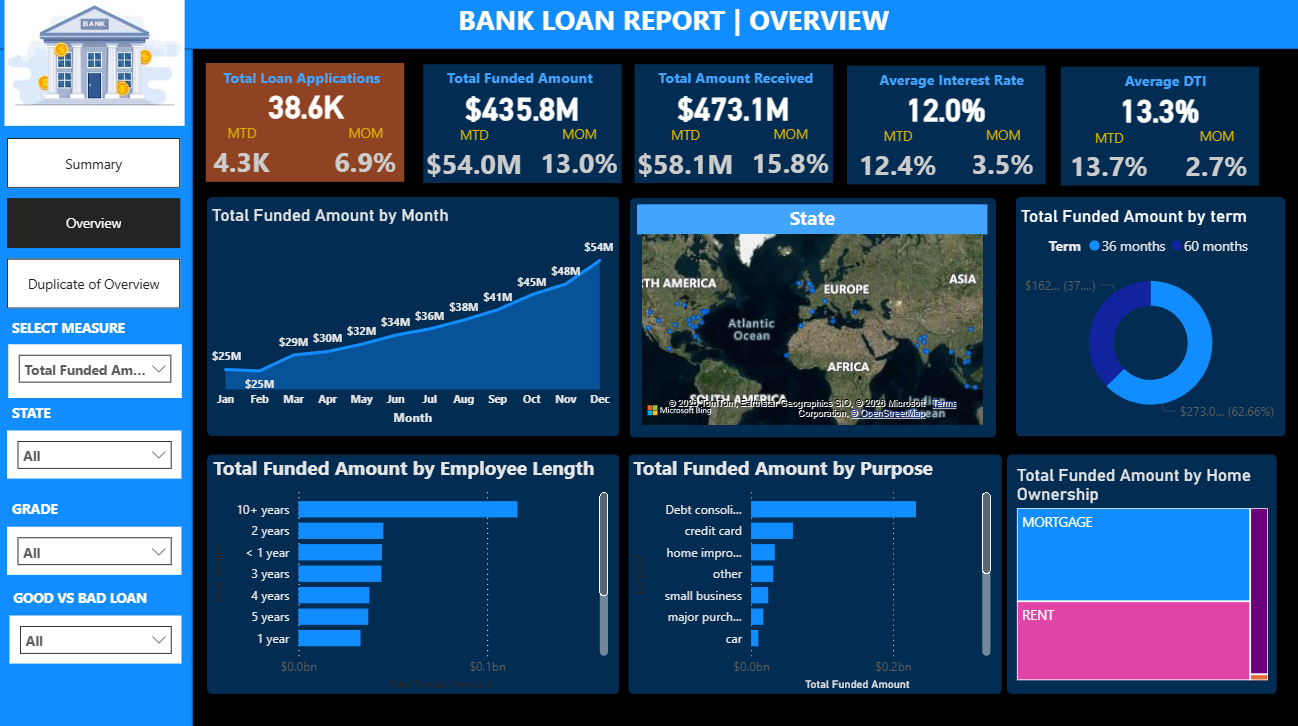

This screenshot's page, from the dashboard's own definition file:
{"tool":"powerbi","page":{"name":"Overview","canvas":[1280,720],"ordinal":1},"visuals":[{"type":"shape","box":[0,0,1280.3,55],"z":0},{"type":"shape","box":[205.8,68.6,194.9,116.6],"z":0,"group":"g1"},{"type":"shape","box":[417.9,70.2,194.9,116.6],"z":0,"group":"g2"},{"type":"shape","box":[625.9,70.3,194.9,116.6],"z":0,"group":"g3"},{"type":"shape","box":[833.9,71.5,194.9,116.6],"z":0,"group":"g4"},{"type":"shape","box":[1044.8,72.7,194.9,116.6],"z":0,"group":"g5"},{"type":"shape","box":[0,54.9,192,665.5],"z":1000},{"type":"card","fields":{"Values":["bank_loan_data.Total Loan Applications"]},"box":[207.5,80.7,191.8,59.1],"z":1000,"group":"g1"},{"type":"card","fields":{"Values":["bank_loan_data.Total Funded Amount"]},"box":[419.1,82.2,191.8,59.1],"z":1000,"group":"g2"},{"type":"card","fields":{"Values":["bank_loan_data.Total Amount Recieved"]},"box":[627.1,82.3,191.8,59.1],"z":1000,"group":"g3"},{"type":"card","fields":{"Values":["bank_loan_data.Avg Interest Rate"]},"box":[835.1,83.5,191.8,59.1],"z":1000,"group":"g4"},{"type":"card","fields":{"Values":["bank_loan_data.Average DTI"]},"box":[1046,84.7,191.8,59.1],"z":1000,"group":"g5"},{"type":"textbox","box":[218.2,68.6,168.8,28.8],"z":2000,"group":"g1"},{"type":"textbox","box":[436.1,68.7,168.9,29],"z":2000,"group":"g2"},{"type":"textbox","box":[644.1,68.8,168.9,29],"z":2000,"group":"g3"},{"type":"textbox","box":[852.1,70,168.9,29],"z":2000,"group":"g4"},{"type":"textbox","box":[1063,71.2,168.9,29],"z":2000,"group":"g5"},{"type":"shape","box":[206.3,200.3,405,235],"z":2000},{"type":"textbox","box":[447.3,2.7,447.3,49.4],"z":3000},{"type":"card","title":"MTD","fields":{"Values":["bank_loan_data.MTD Loan Applications"]},"box":[191.8,127.7,97.7,60.3],"z":3000,"group":"g1"},{"type":"card","title":"MTD","fields":{"Values":["bank_loan_data.MTD Funded Amount"]},"box":[415.5,130.5,105,59.1],"z":3000,"group":"g2"},{"type":"card","title":"MTD","fields":{"Values":["bank_loan_data.MTD Total Amount Recieved"]},"box":[623.5,130.6,105,59.1],"z":3000,"group":"g3"},{"type":"card","title":"MTD","fields":{"Values":["bank_loan_data.MTD Avg Interest Rate"]},"box":[831.5,131.8,105,59.1],"z":3000,"group":"g4"},{"type":"card","title":"MTD","fields":{"Values":["bank_loan_data.MTD Average DTI"]},"box":[1039.5,133,105,59.1],"z":3000,"group":"g5"},{"type":"group","id":"g1","title":"Group 1","box":[191.8,68.6,219.6,119.4],"z":4000},{"type":"card","title":"MOM","fields":{"Values":["bank_loan_data.MOM Loan Applications"]},"box":[313.7,127.7,97.7,60.3],"z":4000,"group":"g1"},{"type":"card","title":"MOM","fields":{"Values":["bank_loan_data.MOM Total Funded Amount"]},"box":[521.7,129.3,97.7,60.3],"z":4000,"group":"g2"},{"type":"card","title":"MOM","fields":{"Values":["bank_loan_data.MOM Total Amount Recieved"]},"box":[729.7,129.4,97.7,60.3],"z":4000,"group":"g3"},{"type":"card","title":"MOM","fields":{"Values":["bank_loan_data.MOM Avg Interest Rate"]},"box":[937.7,130.6,97.7,60.3],"z":4000,"group":"g4"},{"type":"card","title":"MOM","fields":{"Values":["bank_loan_data.MOM Average DTI"]},"box":[1148.6,131.8,97.7,60.3],"z":4000,"group":"g5"},{"type":"group","id":"g2","title":"Group 1","box":[415.5,68.7,203.9,120.9],"z":5000},{"type":"group","id":"g3","title":"Group 1","box":[623.5,68.8,203.9,120.6],"z":6000},{"type":"group","id":"g4","title":"Group 1","box":[831.5,70,203.9,120.6],"z":7000},{"type":"group","id":"g5","title":"Group 1","box":[1039.5,71.2,206.8,120.9],"z":8000},{"type":"slicer","fields":{"Values":["bank_loan_data.address_state"]},"box":[9.7,429.5,171.3,47.1],"z":9000},{"type":"textbox","box":[9.7,398.1,138.7,31.4],"z":10000},{"type":"slicer","fields":{"Values":["bank_loan_data.grade"]},"box":[9.7,523.6,171.3,47.1],"z":11000},{"type":"textbox","box":[9.7,492.2,138.7,31.4],"z":12000},{"type":"textbox","box":[11,579.1,170.6,31.9],"z":13000},{"type":"textbox","box":[9.7,313.7,138.7,31.4],"z":14000},{"type":"slicer","fields":{"Values":["bank_loan_data.Good vs Bad Loan"]},"box":[12.1,610.5,168.9,47.1],"z":16000},{"type":"areaChart","fields":{"Y":["bank_loan_data.Total Funded Amount"],"Category":["Date Table.Month"]},"box":[206.3,207.5,404.2,222],"z":17000},{"type":"slicer","fields":{"Values":["Select Measure.Select Measure"]},"box":[10.9,345,170.1,53.1],"z":18000},{"type":"shape","box":[621.3,201.5,360,235.3],"z":19000},{"type":"map","title":"State","fields":{"Category":["bank_loan_data.address_state"]},"box":[628.6,207.5,343.8,222],"z":20000},{"type":"shape","box":[1000,200,265,235.6],"z":21000},{"type":"donutChart","fields":{"Y":["bank_loan_data.Total Funded Amount"],"Category":["bank_loan_data.term"]},"box":[1000,208.6,265,220.9],"z":22000},{"type":"shape","box":[206.1,452.8,404.9,235.6],"z":23000},{"type":"barChart","title":"Total Funded Amount by Employee Length","fields":{"Y":["bank_loan_data.Total Funded Amount"],"Category":["bank_loan_data.emp_length"]},"box":[207.4,452.8,397.5,236.8],"z":24000},{"type":"shape","box":[619.6,452.8,366.9,235.6],"z":24001},{"type":"barChart","title":"Total Funded Amount by Purpose","fields":{"Category":["bank_loan_data.purpose"],"Y":["bank_loan_data.Total Funded Amount"]},"box":[619.6,452.8,360.7,236.8],"z":24002},{"type":"shape","box":[991.4,452.8,265,235.6],"z":24003},{"type":"treemap","title":"Total Funded Amount by Home Ownership","fields":{"Group":["bank_loan_data.home_ownership"],"Values":["bank_loan_data.Total Funded Amount"]},"box":[996.3,462.6,256.4,217.2],"z":24004},{"type":"pageNavigator","box":[9.8,142.3,170.6,169.3],"z":24005},{"type":"image","box":[7.4,0,176.7,132.5],"z":24006}]}

Visuals, with their boxes on the page's 1280x720 design canvas (x1, y1, x2, y2). These are canvas units, not pixel positions in the 1298x726 screenshot, which may show the page scaled, cropped or inside an application window:
shape: rect(0, 0, 1280, 55)
shape: rect(206, 69, 401, 185)
shape: rect(418, 70, 613, 187)
shape: rect(626, 70, 821, 187)
shape: rect(834, 72, 1029, 188)
shape: rect(1045, 73, 1240, 189)
shape: rect(0, 55, 192, 720)
card - bank_loan_data.Total Loan Applications: rect(208, 81, 399, 140)
card - bank_loan_data.Total Funded Amount: rect(419, 82, 611, 141)
card - bank_loan_data.Total Amount Recieved: rect(627, 82, 819, 141)
card - bank_loan_data.Avg Interest Rate: rect(835, 84, 1027, 143)
card - bank_loan_data.Average DTI: rect(1046, 85, 1238, 144)
textbox: rect(218, 69, 387, 97)
textbox: rect(436, 69, 605, 98)
textbox: rect(644, 69, 813, 98)
textbox: rect(852, 70, 1021, 99)
textbox: rect(1063, 71, 1232, 100)
shape: rect(206, 200, 611, 435)
textbox: rect(447, 3, 895, 52)
"MTD" card: rect(192, 128, 290, 188)
"MTD" card: rect(416, 130, 520, 190)
"MTD" card: rect(624, 131, 728, 190)
"MTD" card: rect(832, 132, 936, 191)
"MTD" card: rect(1040, 133, 1144, 192)
"Group 1" group: rect(192, 69, 411, 188)
"MOM" card: rect(314, 128, 411, 188)
"MOM" card: rect(522, 129, 619, 190)
"MOM" card: rect(730, 129, 827, 190)
"MOM" card: rect(938, 131, 1035, 191)
"MOM" card: rect(1149, 132, 1246, 192)
"Group 1" group: rect(416, 69, 619, 190)
"Group 1" group: rect(624, 69, 827, 189)
"Group 1" group: rect(832, 70, 1035, 191)
"Group 1" group: rect(1040, 71, 1246, 192)
slicer - bank_loan_data.address_state: rect(10, 430, 181, 477)
textbox: rect(10, 398, 148, 430)
slicer - bank_loan_data.grade: rect(10, 524, 181, 571)
textbox: rect(10, 492, 148, 524)
textbox: rect(11, 579, 182, 611)
textbox: rect(10, 314, 148, 345)
slicer - bank_loan_data.Good vs Bad Loan: rect(12, 610, 181, 658)
areaChart - bank_loan_data.Total Funded Amount x Date Table.Month: rect(206, 208, 610, 430)
slicer - Select Measure.Select Measure: rect(11, 345, 181, 398)
shape: rect(621, 202, 981, 437)
"State" map: rect(629, 208, 972, 430)
shape: rect(1000, 200, 1265, 436)
donutChart - bank_loan_data.Total Funded Amount x bank_loan_data.term: rect(1000, 209, 1265, 430)
shape: rect(206, 453, 611, 688)
"Total Funded Amount by Employee Length" barChart: rect(207, 453, 605, 690)
shape: rect(620, 453, 986, 688)
"Total Funded Amount by Purpose" barChart: rect(620, 453, 980, 690)
shape: rect(991, 453, 1256, 688)
"Total Funded Amount by Home Ownership" treemap: rect(996, 463, 1253, 680)
pageNavigator: rect(10, 142, 180, 312)
image: rect(7, 0, 184, 132)
